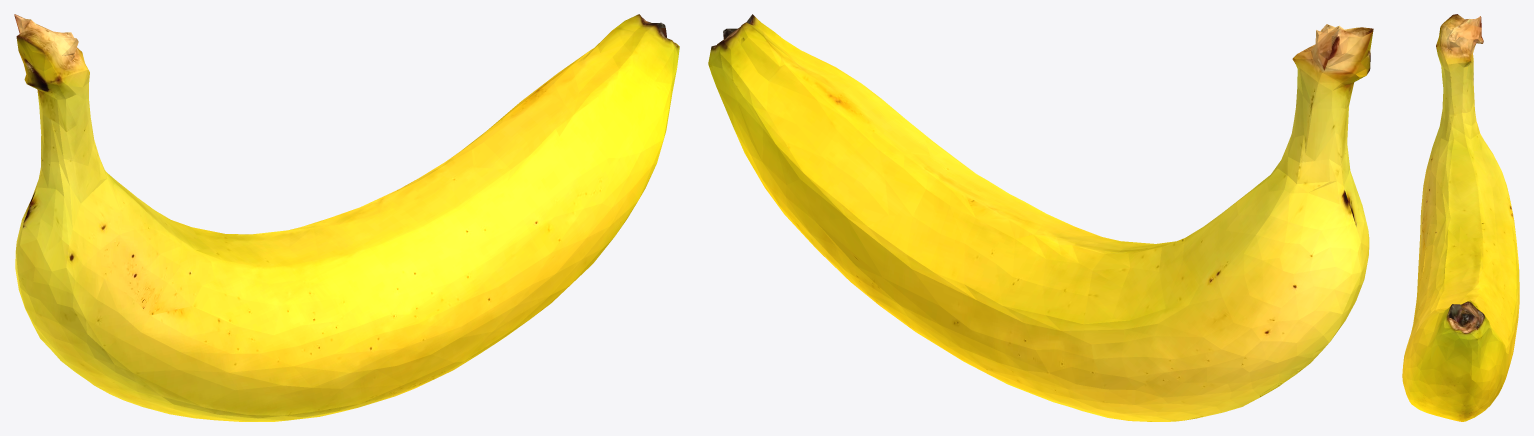
File: banana-v1.glb
3 views of the same model, side by side, from view 1: azimuth 30°, elevation 25°; view 2: azimuth 150°, elevation 25°; view 3: azimuth 270°, elevation 25° (orthographic). The views are drawn at different scales.
Parts seen in each view (by area): view 1: Banana; view 2: Banana; view 3: Banana.
Boxes of the visible parts, x1,y1,x2,y2 form: Banana: [14, 14, 679, 421]; Banana: [708, 14, 1373, 421]; Banana: [1402, 14, 1519, 421].
Size of the model in its own units: 6.79 by 4.43 by 1.62.
Materials: 1 (1 with a texture image).
